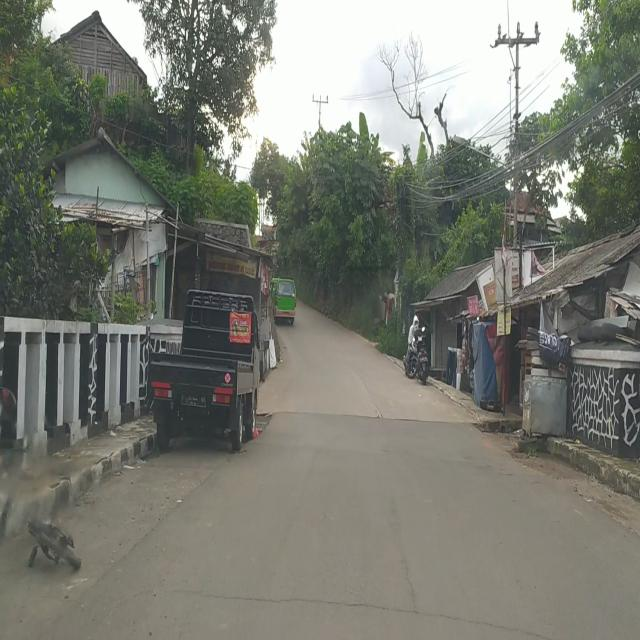Sewer Cover: (171, 581, 544, 635)
